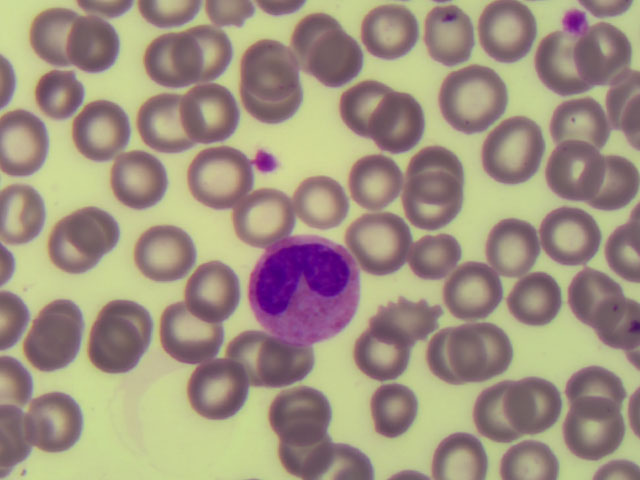Platelets: (250, 146, 286, 174), (561, 6, 590, 35)
RBC: (427, 418, 486, 480), (31, 6, 90, 67), (66, 14, 125, 75), (30, 62, 89, 123), (3, 111, 62, 172), (69, 97, 128, 158), (107, 146, 166, 207), (136, 91, 195, 152), (179, 83, 238, 144), (141, 25, 200, 86), (184, 21, 243, 82), (234, 31, 293, 92), (243, 68, 302, 129), (284, 5, 343, 66), (312, 32, 371, 93), (336, 76, 395, 137), (367, 93, 426, 154), (366, 5, 425, 66), (422, 5, 481, 66), (445, 63, 504, 124), (483, 121, 542, 182), (546, 140, 605, 201), (551, 93, 610, 154), (581, 147, 640, 208), (534, 42, 593, 103), (570, 29, 629, 90), (544, 202, 603, 263), (491, 216, 550, 277), (435, 255, 494, 316), (501, 272, 560, 333), (464, 318, 523, 379), (415, 330, 474, 391), (384, 289, 443, 350), (356, 324, 415, 385), (366, 377, 425, 438), (467, 385, 526, 446), (509, 365, 568, 426), (561, 400, 620, 461), (578, 351, 637, 412), (194, 358, 253, 419), (204, 323, 263, 384), (255, 338, 314, 399), (271, 377, 330, 438), (273, 416, 332, 477), (158, 300, 217, 361), (184, 265, 243, 326), (142, 219, 201, 280), (103, 284, 162, 345), (86, 320, 145, 381), (27, 321, 86, 382), (31, 302, 90, 363), (47, 213, 106, 274), (69, 200, 128, 261), (27, 387, 86, 448), (188, 147, 247, 208), (226, 188, 285, 249), (288, 173, 347, 234), (342, 151, 401, 212), (402, 176, 461, 237), (408, 141, 467, 202), (355, 210, 414, 271), (408, 220, 467, 281), (482, 1, 541, 61)
WBC: (250, 234, 362, 347)
